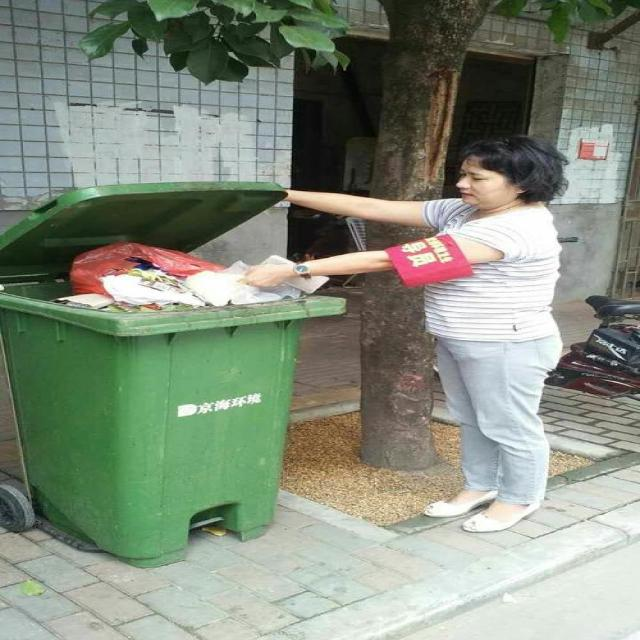overflow: (1, 241, 347, 568)
